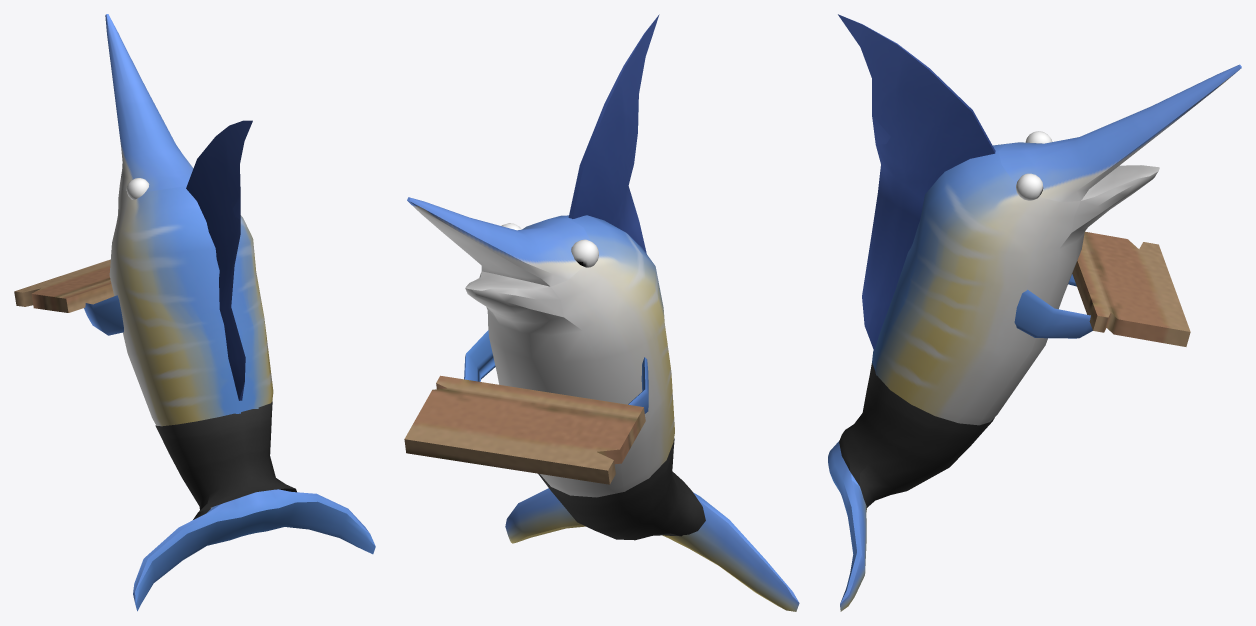
File: kajiki_walk_c_05.fbx
3 renders of one model, left to right at view 1: azimuth 30°, elevation 25°; view 2: azimuth 150°, elevation 25°; view 3: azimuth 270°, elevation 25°, orthographic. The views are drawn at different scales.
Visible parts, largest first — view 1: W_c_05; view 2: W_c_05; view 3: W_c_05.
Boxes of the visible parts, box(x1,y1,x2,y2) form: W_c_05: box(14, 14, 375, 611); W_c_05: box(404, 14, 799, 611); W_c_05: box(828, 14, 1241, 611).
Size of the model in its own units: 1.37 by 2.53 by 1.79.
1 material, 1 textured.
